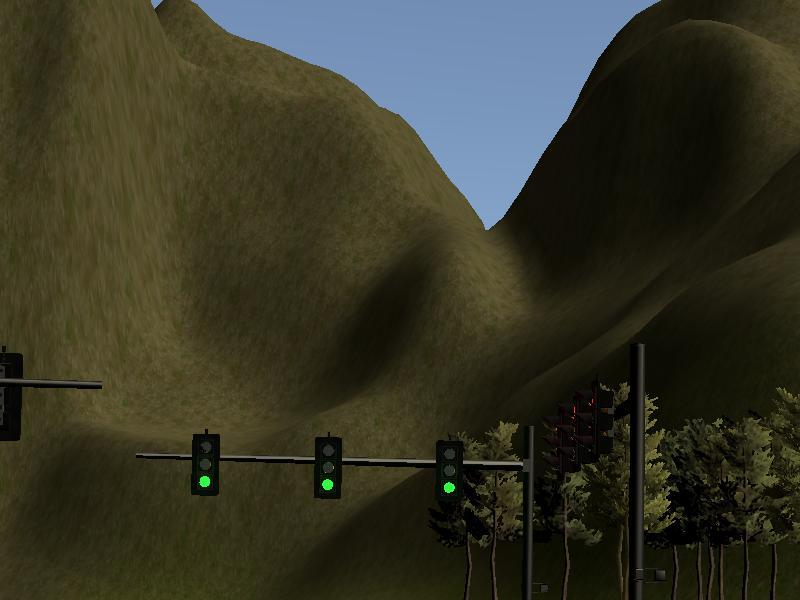Green: (437, 441, 463, 502), (316, 438, 341, 499), (193, 435, 217, 494)
